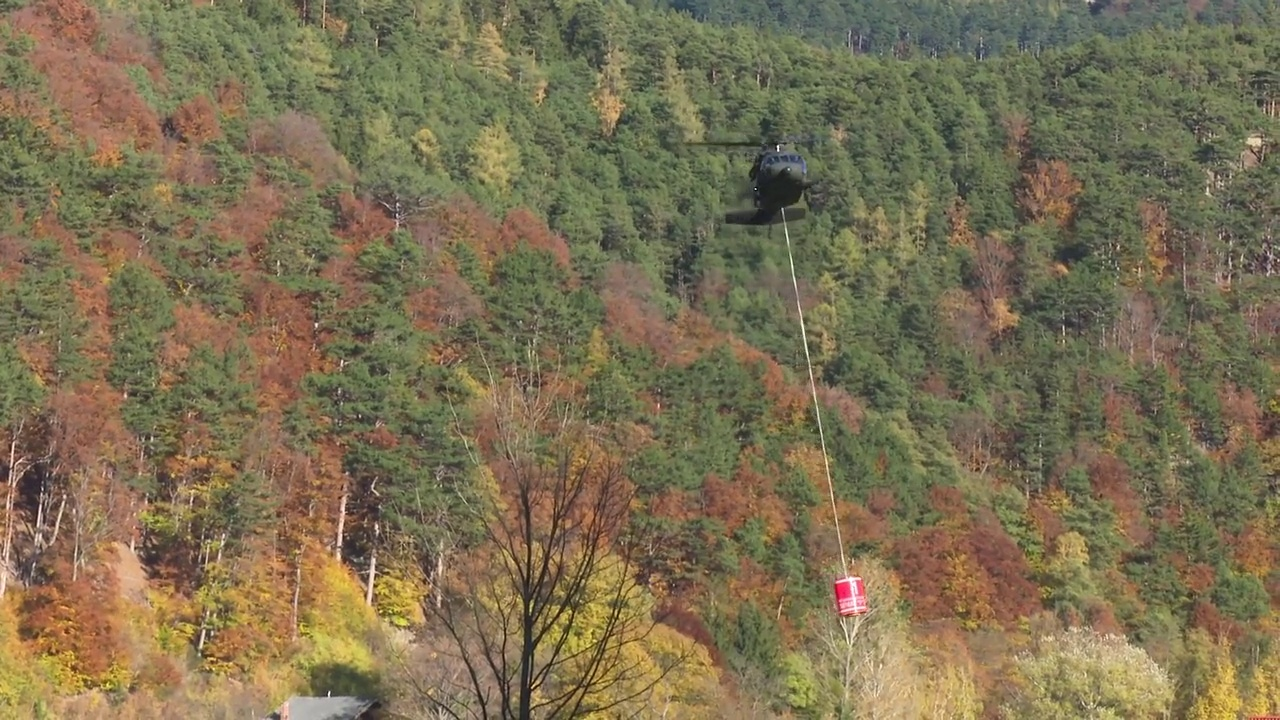heli: (721, 137, 813, 224)
